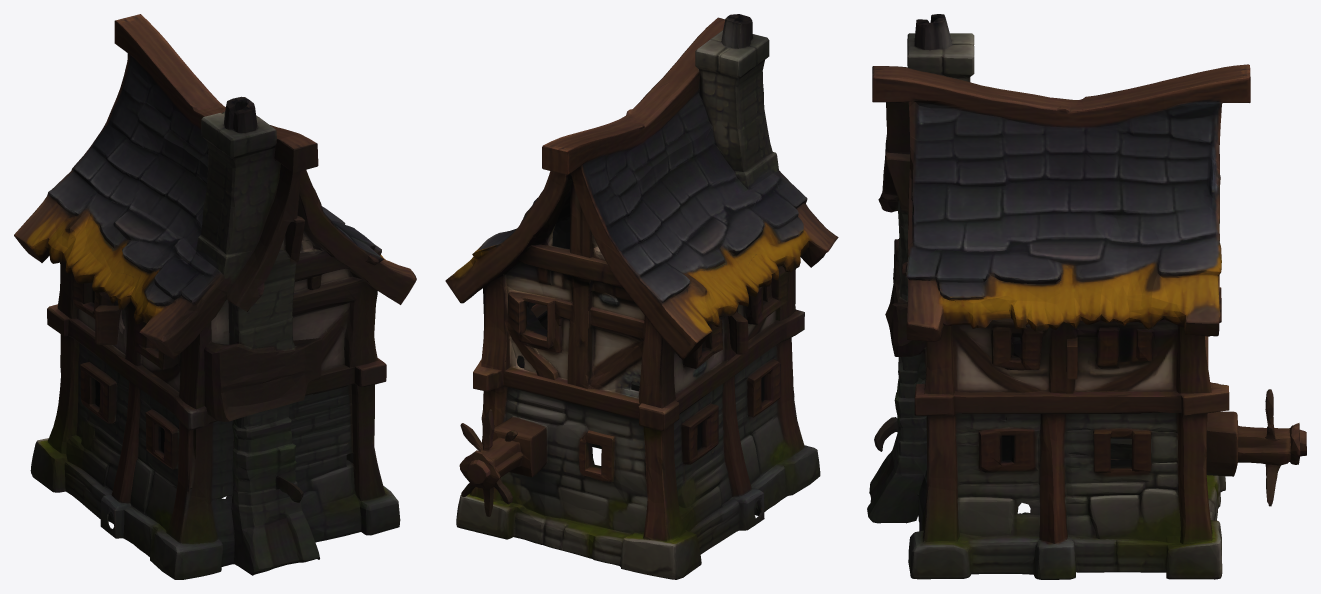
The model's file is drowned_mill.glb.
3 views of the same model, side by side, from view 1: azimuth 30°, elevation 25°; view 2: azimuth 150°, elevation 25°; view 3: azimuth 270°, elevation 25° (orthographic). The views are drawn at different scales.
Parts seen in each view (by area): view 1: geometry_0; view 2: geometry_0; view 3: geometry_0.
Part boxes in pixels (x1=…): geometry_0: x1=14, y1=14, x2=416, y2=579; geometry_0: x1=445, y1=14, x2=838, y2=579; geometry_0: x1=867, y1=14, x2=1306, y2=579.
Bounding box in the file's own units: 0.6147 × 0.9991 × 0.8237.
1 material, 1 textured.
